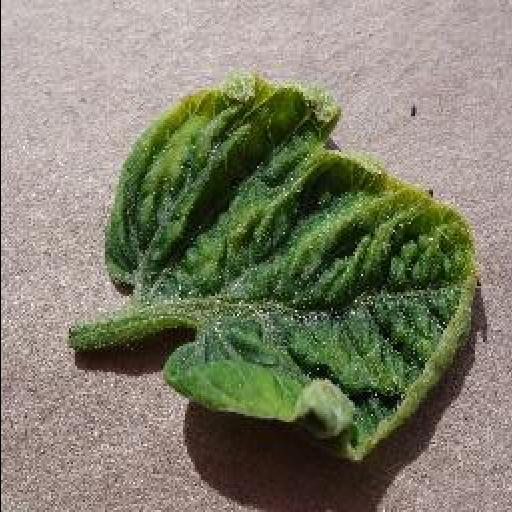disease_tomato: (100, 78, 482, 462)
